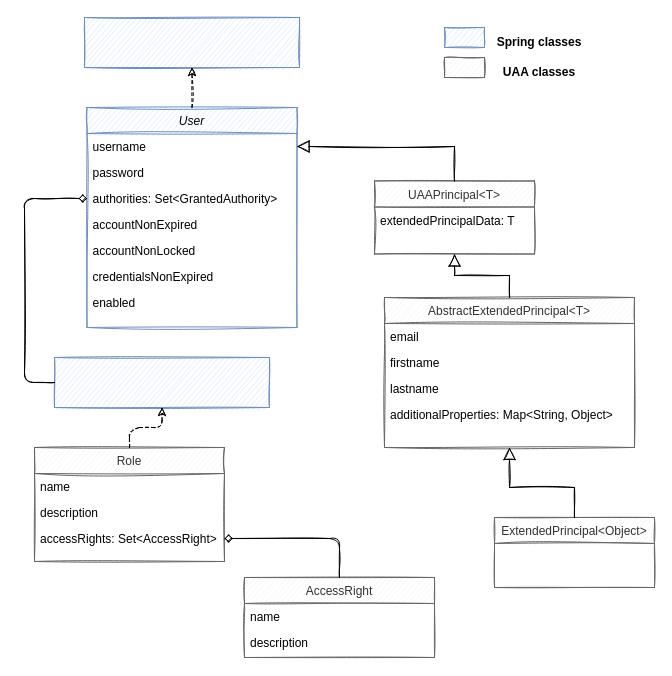
Image size: 672x676. Some labels were removed from this diagram. Here are the shapes that lost their labels. From the top down, the centre of each, then its label:
At (x=192, y=42): "«interface» UserDetails".
At (x=162, y=382): "«interface» GrantedAuthority".
